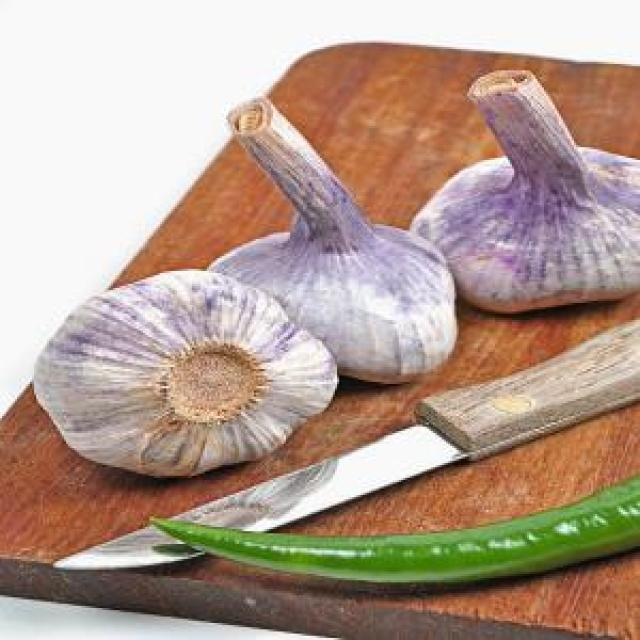knife: (53, 305, 639, 591)
